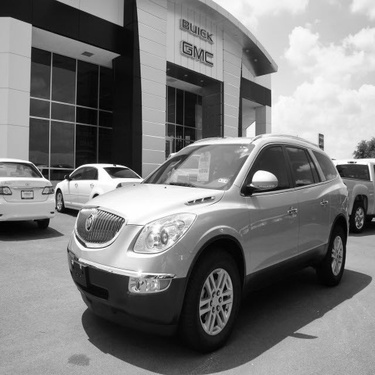car: (62, 133, 369, 344), (66, 164, 146, 215), (1, 157, 61, 224), (330, 145, 375, 220)
